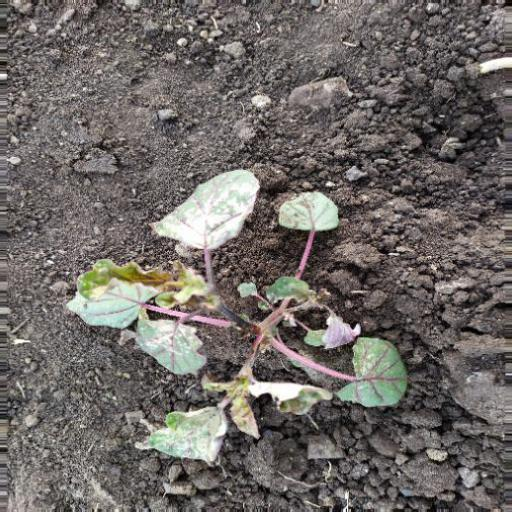weed: (83, 182, 417, 460)
